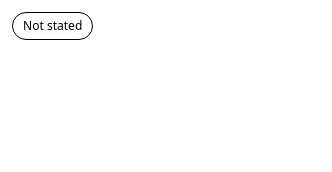
FilterChip (three-state) › cycles on click and announces each state
This screenshot has width=332, height=172.
Click the button.
click(53, 26)  # box [12,12,93,40]
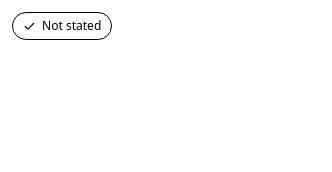
Expected: the button has attribute data-state="include"
Click the button.
click(62, 26)  # box [12,12,112,40]
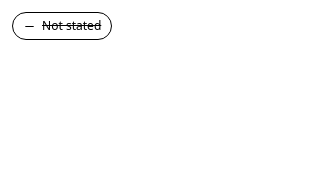
Expected: the button has attribute data-state="exclude"
Click the button.
click(62, 26)  # box [12,12,112,40]
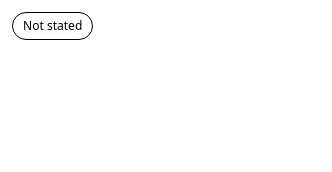
Expected: the button has attribute data-state="off", [12,12,93,40]
